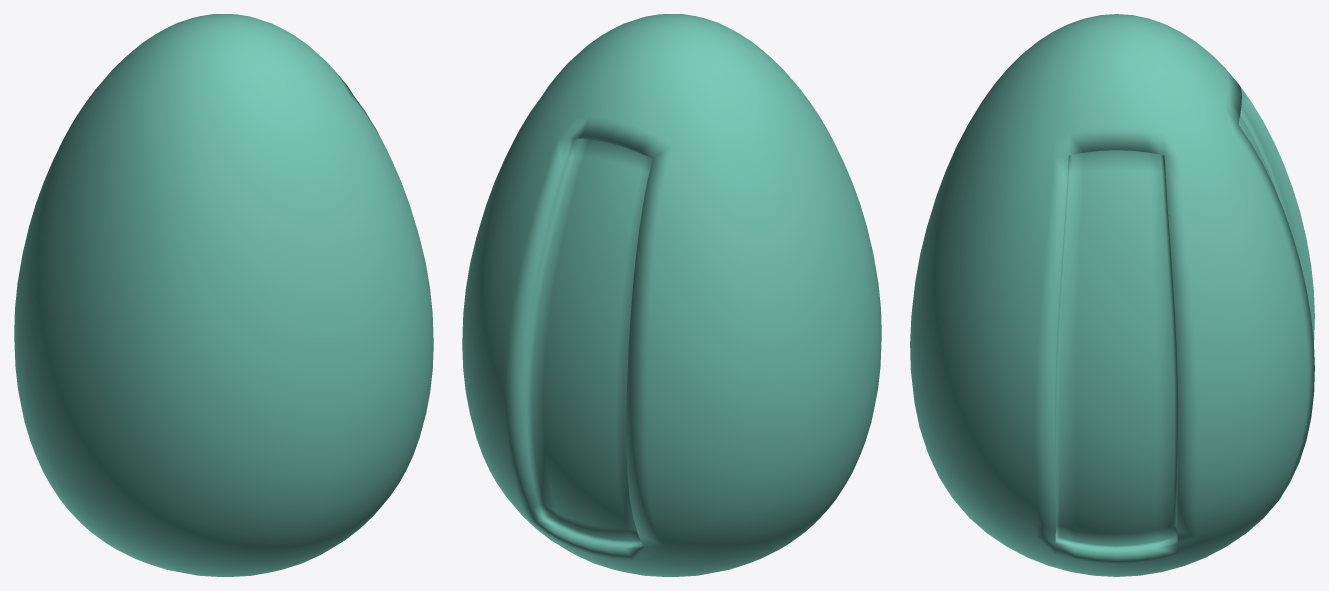
Rendered from Slime Egg  New 2.fbx.
The picture shows the model from 3 angles, left to right: view 1: azimuth 30°, elevation 25°; view 2: azimuth 150°, elevation 25°; view 3: azimuth 270°, elevation 25°; orthographic projection.
Parts seen in each view (by area): view 1: Slime Egg New.002; view 2: Slime Egg New.002; view 3: Slime Egg New.002.
Boxes of the visible parts, <box> form: Slime Egg New.002: <box>14,14,433,576</box>; Slime Egg New.002: <box>462,14,881,576</box>; Slime Egg New.002: <box>910,14,1314,576</box>.
Size of the model in its own units: 251 by 362 by 251.
